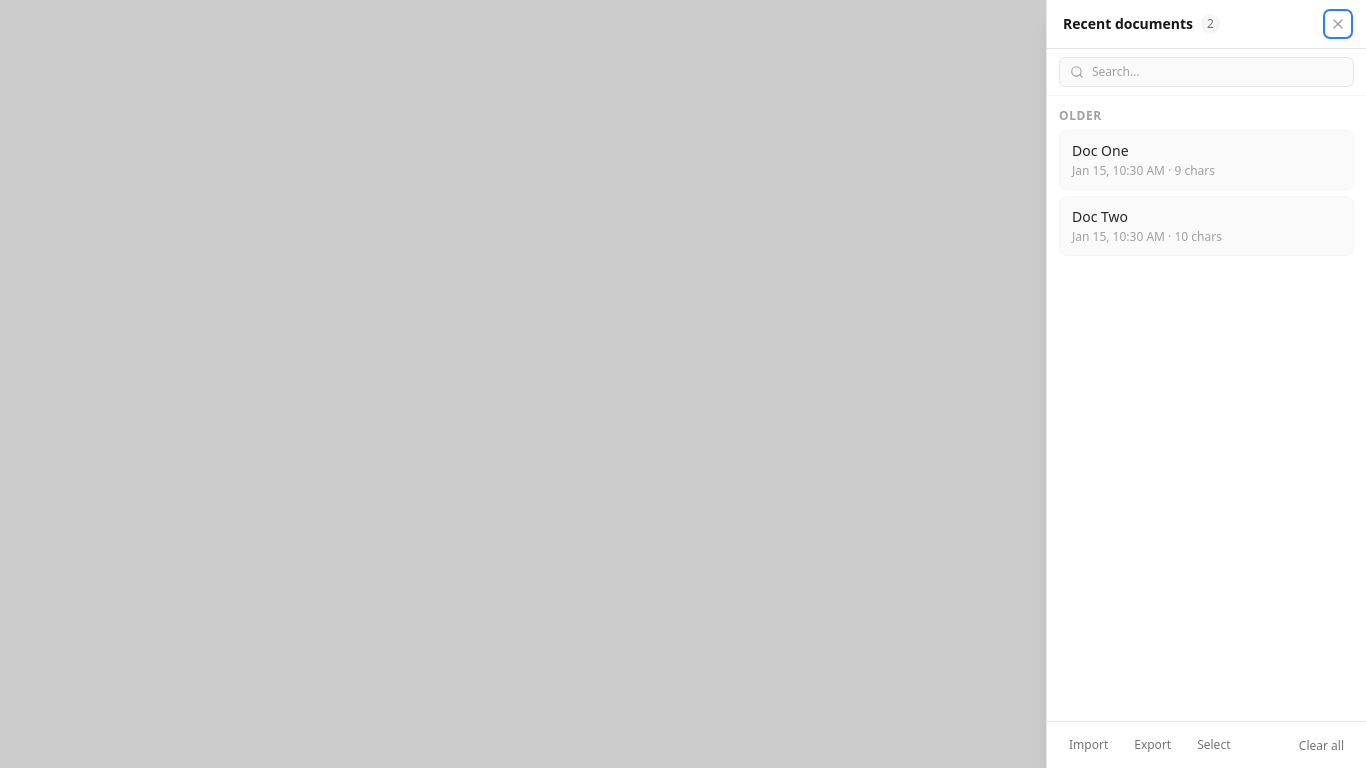
HistorySidebar — select mode & bulk delete › enters select mode and shows checkboxes when Select is clicked
The image size is (1366, 768).
Click the button with aria-label "enter bulk selection mode". click: (1214, 745)
box: [1187,733,1240,757]
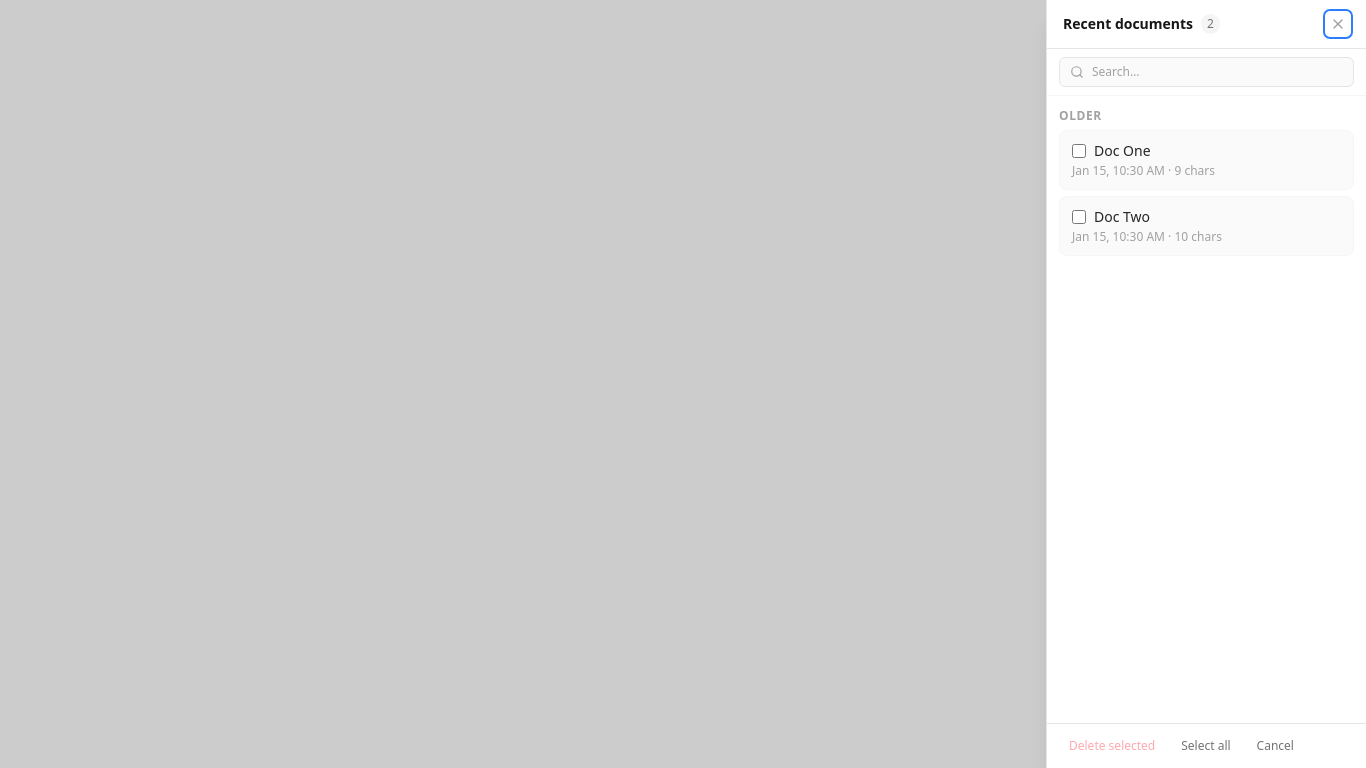
Expected: the checkbox named "select \"Doc One\"" is shown, [1072,144,1086,158]
Expected: the checkbox named "select \"Doc Two\"" is shown, [1072,210,1086,224]
